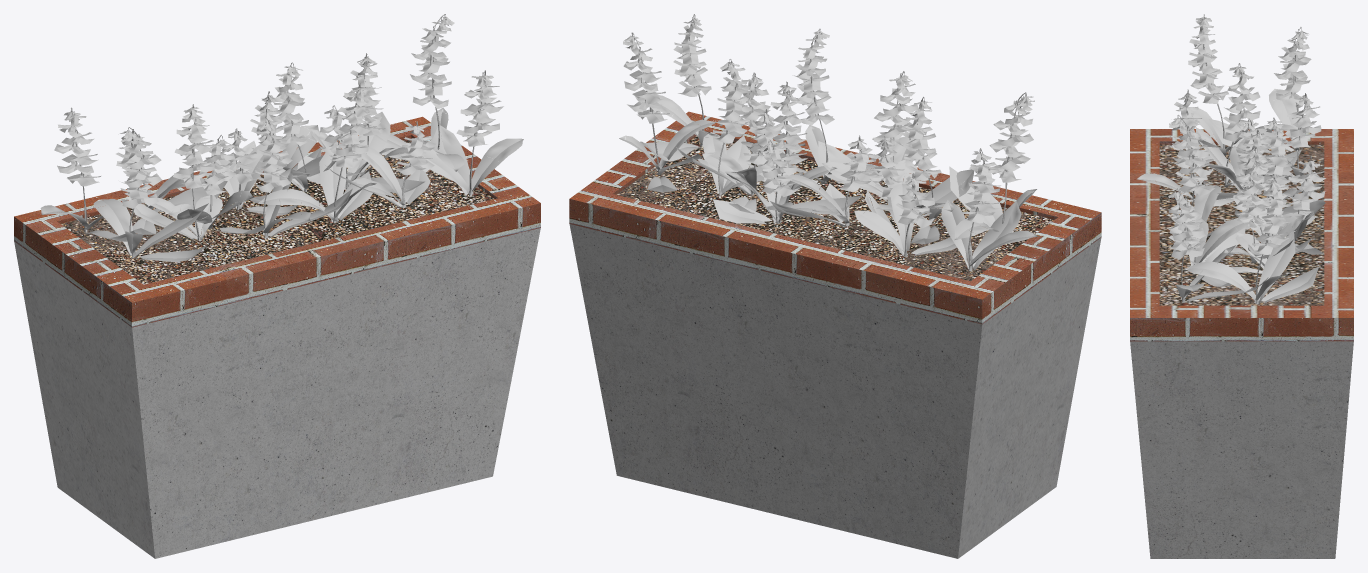
The model's file is Planter_High_LOD.obj.
The picture shows the model from 3 angles, left to right: view 1: azimuth 30°, elevation 25°; view 2: azimuth 150°, elevation 25°; view 3: azimuth 270°, elevation 25°; orthographic projection. The views are drawn at different scales.
Parts seen in each view (by area): view 1: CityEngineShapeMaterial1, Foliage, CityEngineShapeMaterial, CityEngineShapeMaterial2; view 2: CityEngineShapeMaterial1, Foliage, CityEngineShapeMaterial, CityEngineShapeMaterial2; view 3: CityEngineShapeMaterial1, Foliage, CityEngineShapeMaterial, CityEngineShapeMaterial2.
Part boxes in pixels (left/top/right/bottom): CityEngineShapeMaterial1: left=14, top=228, right=540, bottom=558; Foliage: left=40, top=14, right=523, bottom=261; CityEngineShapeMaterial: left=14, top=116, right=540, bottom=327; CityEngineShapeMaterial2: left=61, top=138, right=494, bottom=284; CityEngineShapeMaterial1: left=569, top=224, right=1101, bottom=558; Foliage: left=619, top=14, right=1038, bottom=271; CityEngineShapeMaterial: left=569, top=111, right=1101, bottom=324; CityEngineShapeMaterial2: left=616, top=136, right=1054, bottom=281; CityEngineShapeMaterial1: left=1130, top=341, right=1353, bottom=558; Foliage: left=1137, top=14, right=1325, bottom=304; CityEngineShapeMaterial: left=1130, top=129, right=1353, bottom=341; CityEngineShapeMaterial2: left=1159, top=144, right=1324, bottom=305.
Bounding box in the file's own units: 1.3 × 1.16 × 0.605.
